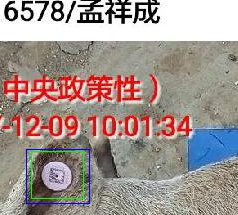text: (31, 151, 83, 198)
